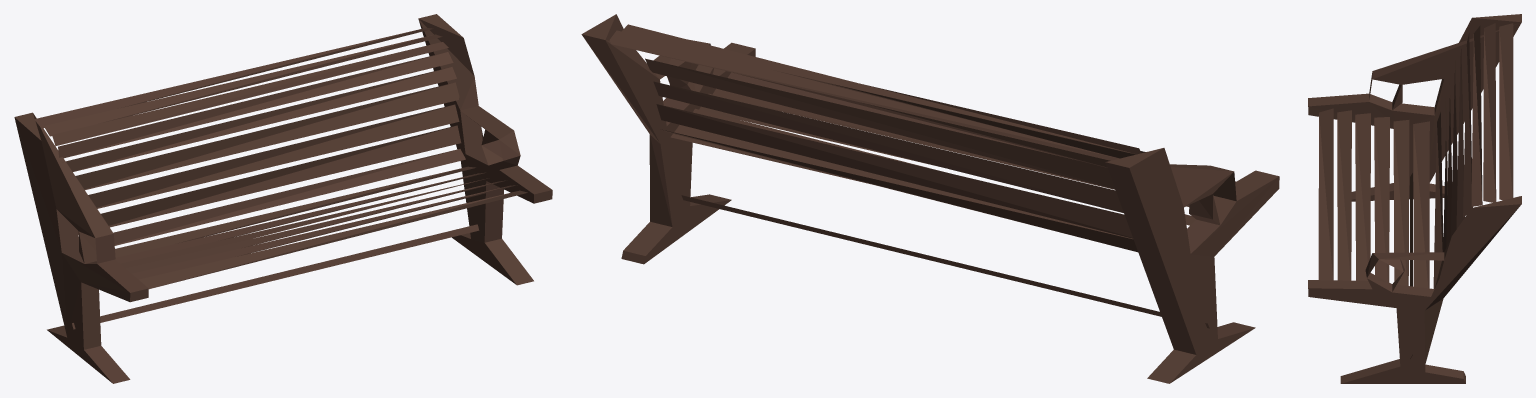
The model's file is bench-park.lod1.glb.
The picture shows the model from 3 angles, left to right: view 1: azimuth 30°, elevation 25°; view 2: azimuth 150°, elevation 25°; view 3: azimuth 270°, elevation 25°; orthographic projection. The views are drawn at different scales.
Visible parts, largest first — view 1: Bench_Bench_0; view 2: Bench_Bench_0; view 3: Bench_Bench_0.
Part boxes in pixels (<box>): Bench_Bench_0: <box>14,14,552,383</box>; Bench_Bench_0: <box>581,14,1279,383</box>; Bench_Bench_0: <box>1308,14,1521,383</box>.
Bounding box in the file's own units: 1.8 × 0.7893 × 0.8489.
